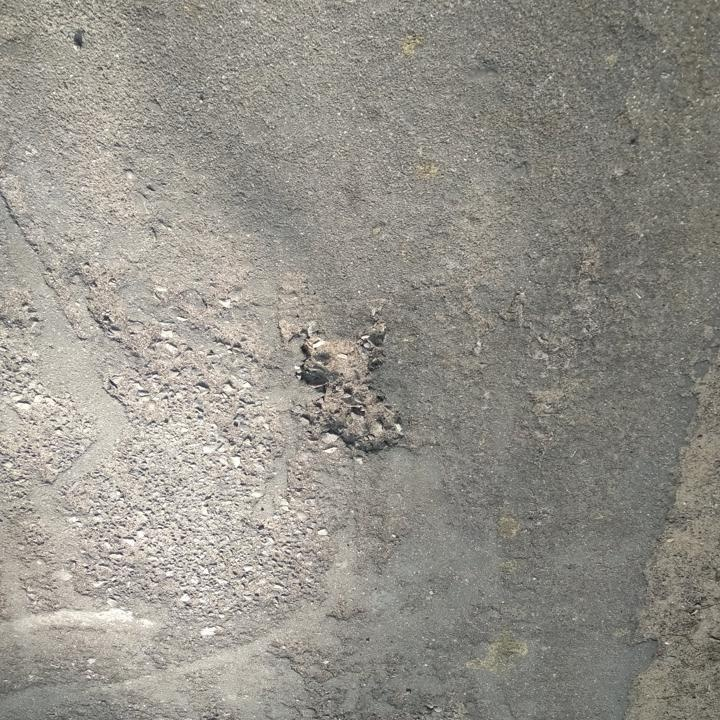pothole: (288, 330, 399, 460)
